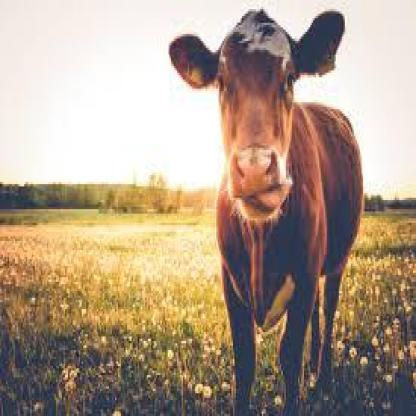cow: (168, 11, 364, 416)
